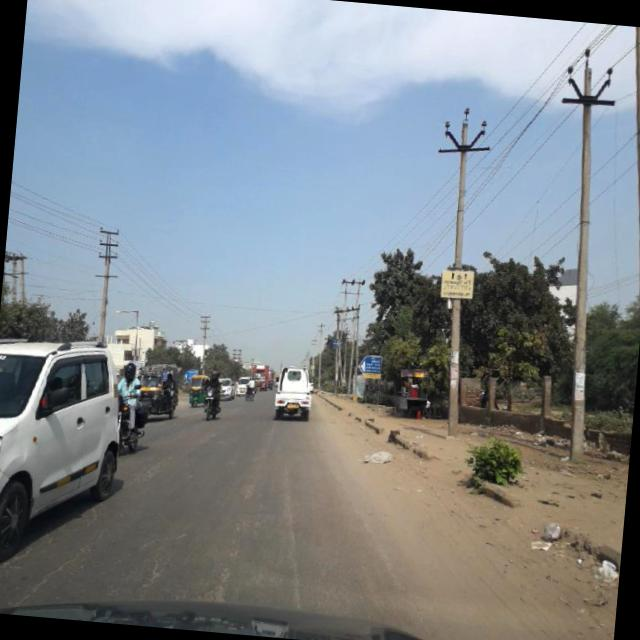crack: (278, 465, 316, 617), (22, 540, 82, 608), (140, 532, 172, 604)
